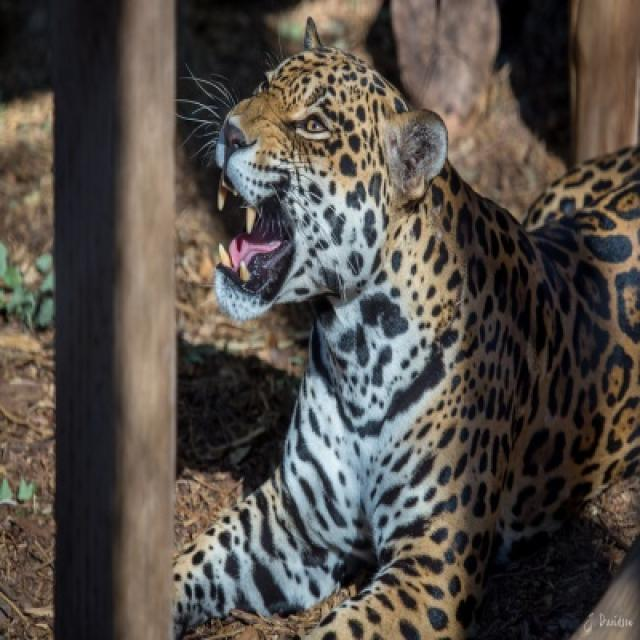Jaguar: (168, 45, 638, 638)
